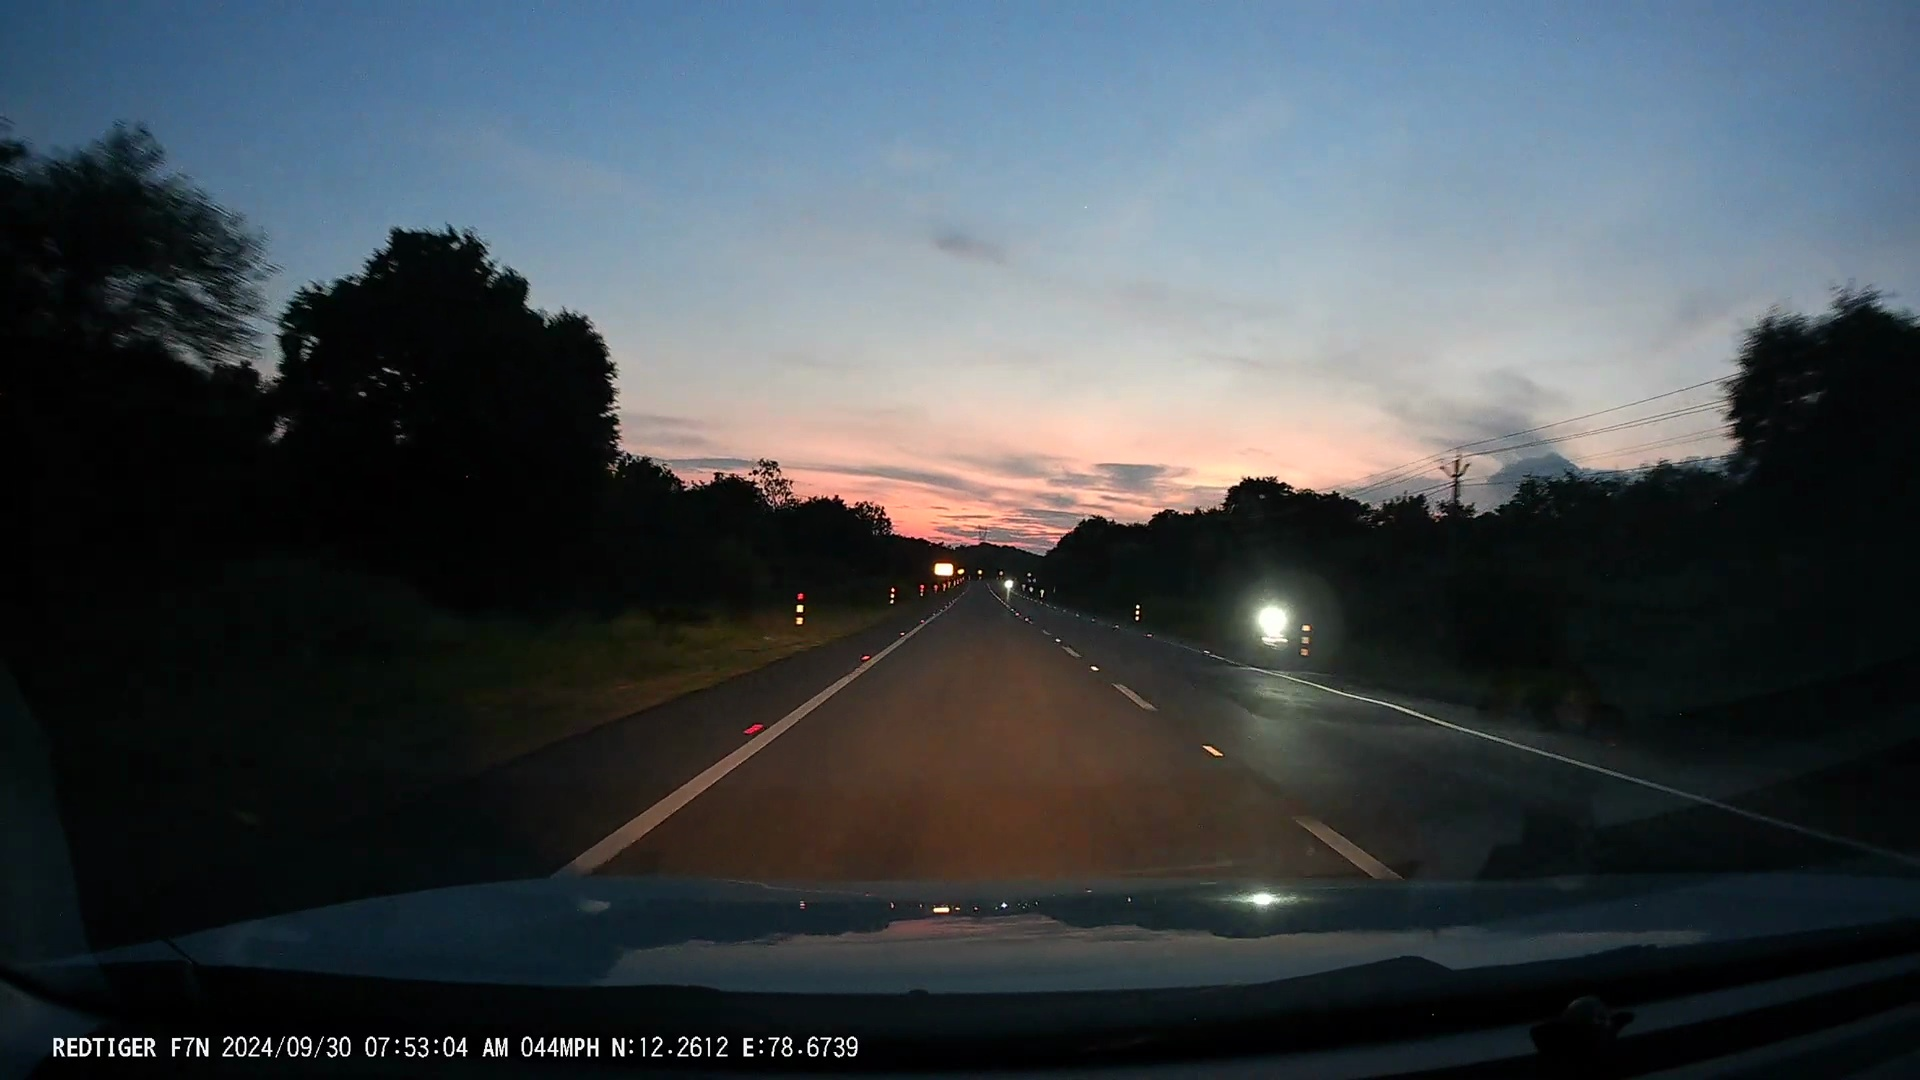headlight: (1259, 605, 1284, 632), (1006, 580, 1014, 589)
two wheeler: (1258, 593, 1290, 671), (1004, 572, 1015, 600)
